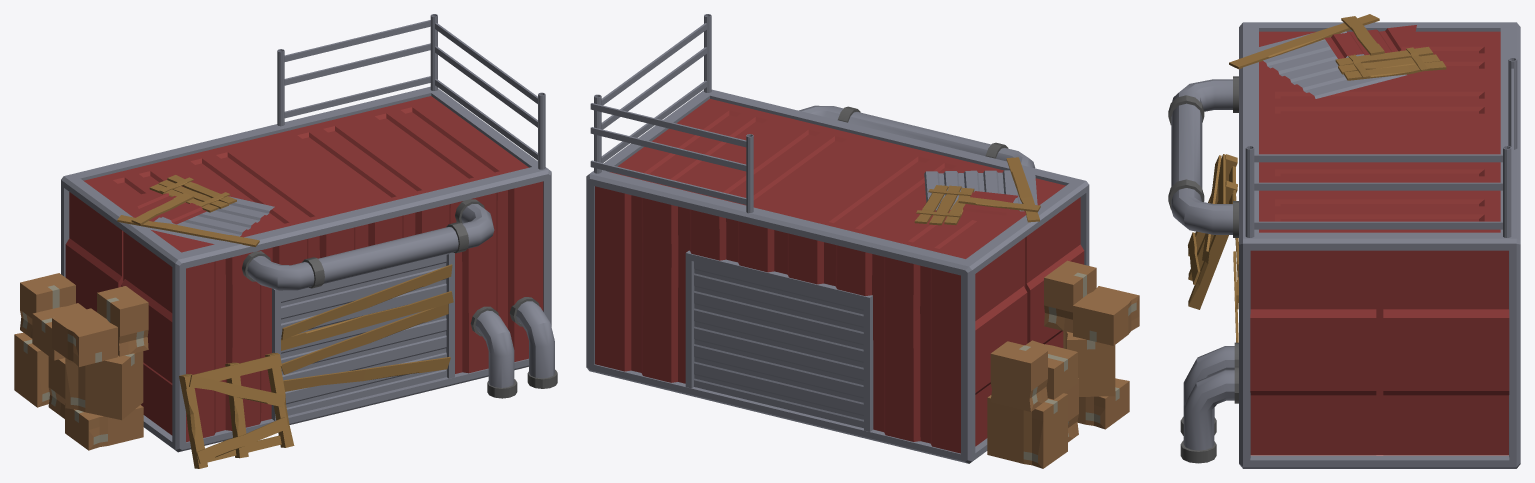
File: container-1.glb
3 views of the same model, side by side, from view 1: azimuth 30°, elevation 25°; view 2: azimuth 150°, elevation 25°; view 3: azimuth 270°, elevation 25° (orthographic). The views are drawn at different scales.
Visible parts, largest first — view 1: Structure_1; view 2: Structure_1; view 3: Structure_1.
Boxes of the visible parts, x1,y1,x2,y2 form: Structure_1: (14,14,557,468); Structure_1: (586,14,1139,468); Structure_1: (1168,14,1520,468).
Size of the model in its own units: 7.98 by 4.56 by 4.52.
